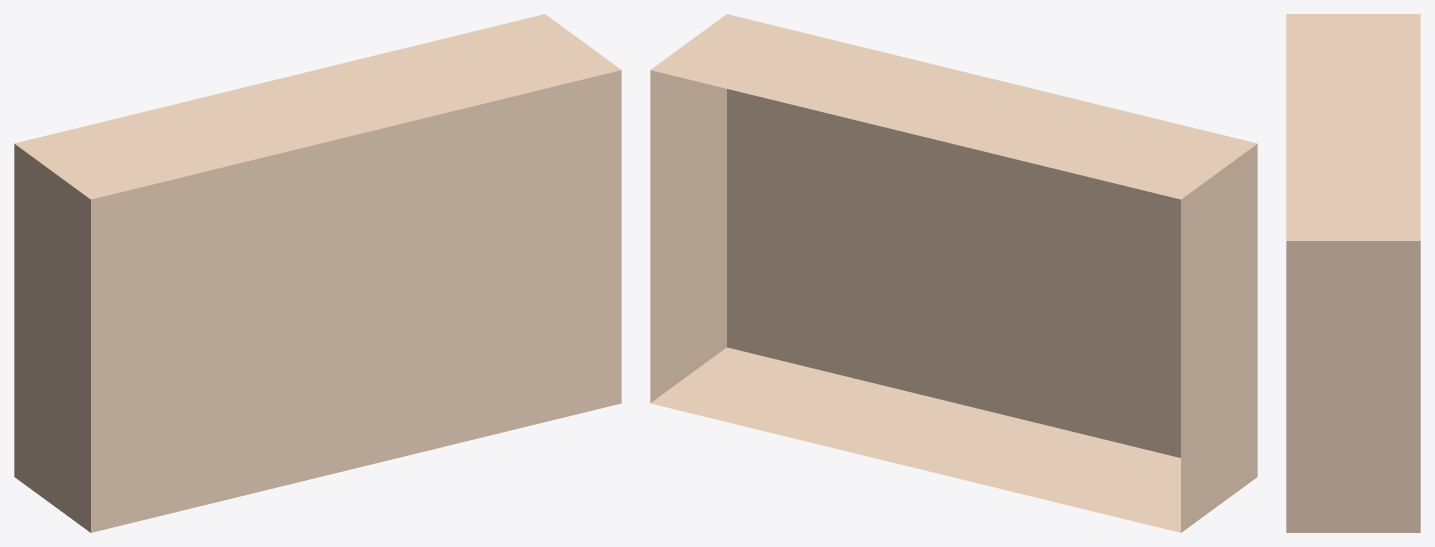
File: original-6.obj
3 views of the same model, side by side, from view 1: azimuth 30°, elevation 25°; view 2: azimuth 150°, elevation 25°; view 3: azimuth 270°, elevation 25° (orthographic). The views are drawn at different scales.
Parts seen in each view (by area): view 1: #ID40; view 2: #ID40; view 3: #ID40.
Part boxes in pixels (x1,y1,x2,y2): #ID40: (14,14,621,532); #ID40: (650,14,1257,532); #ID40: (1286,14,1420,532).
Size of the model in its own units: 0.0504 by 0.0302 by 0.0126.
